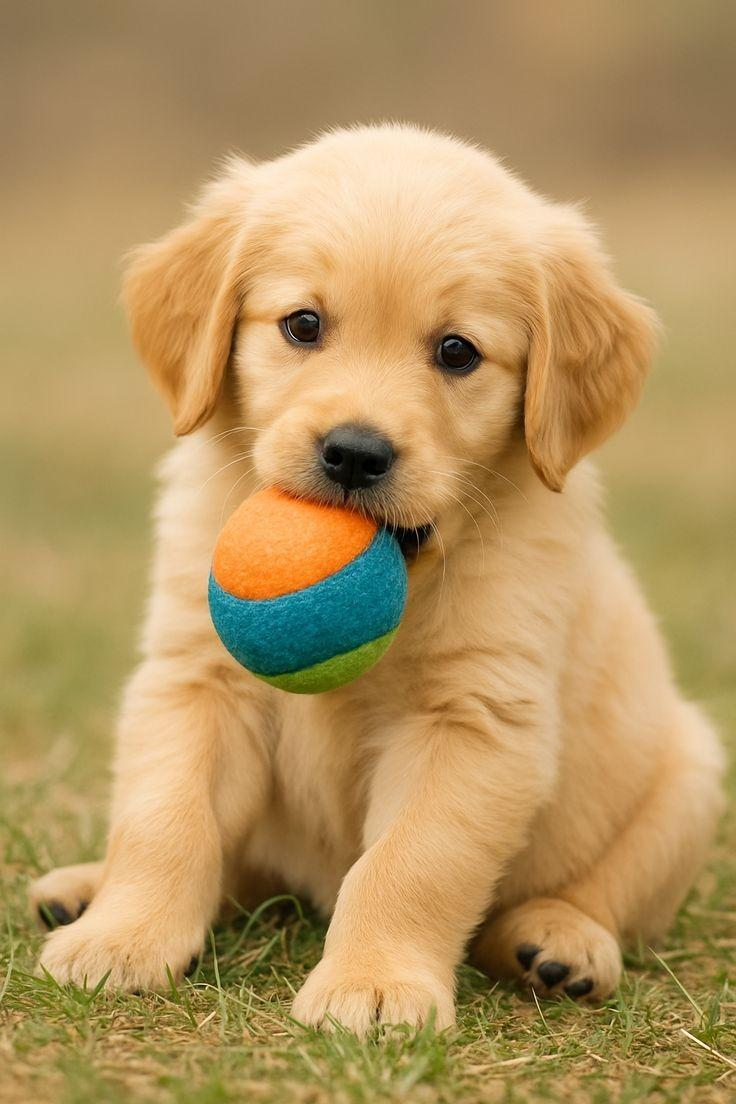puppy-dog: (19, 117, 730, 1045)
